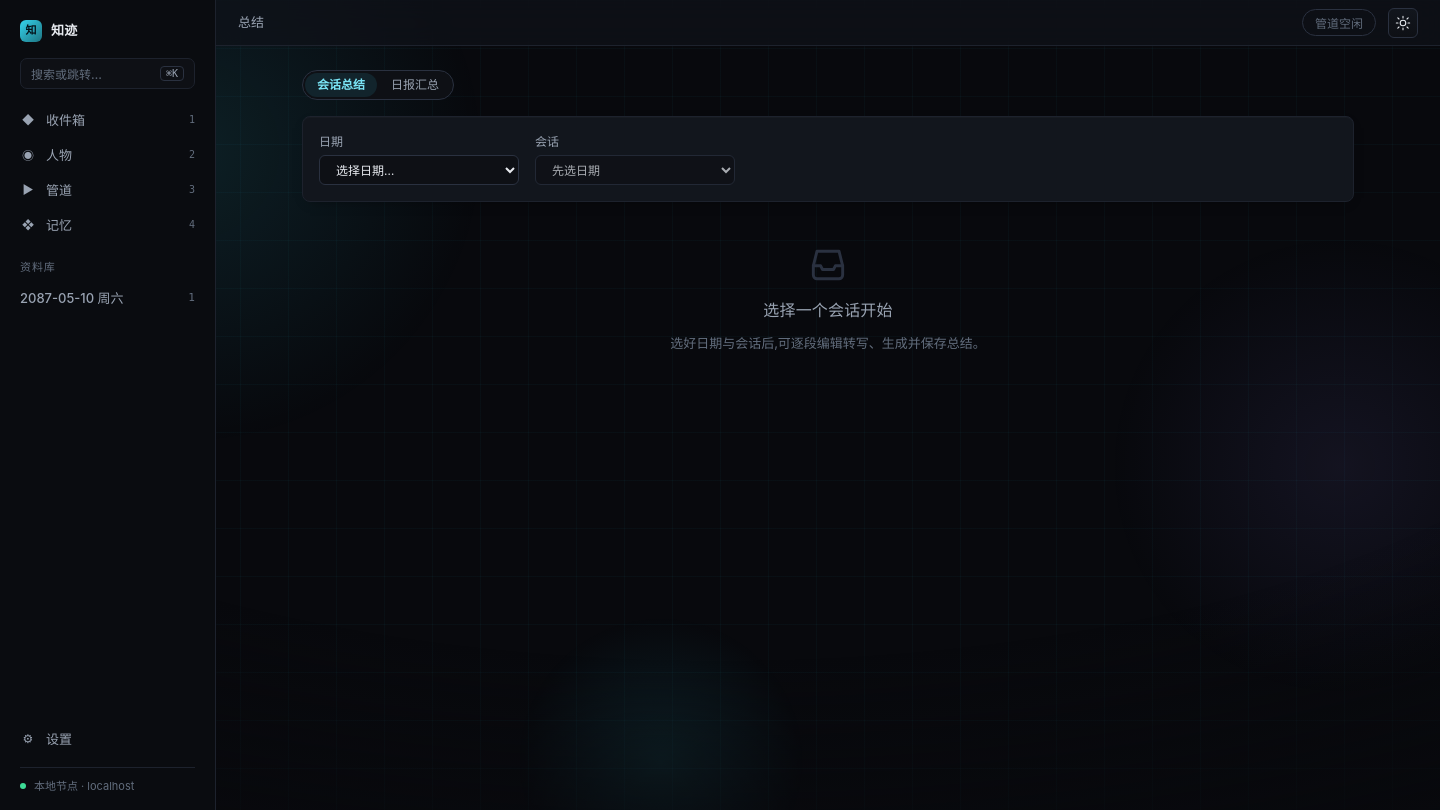
it: App container › 观点 tab defaults to the per-session workspace and can toggle to the 日报汇总 rollup
Expected: the tab "◆ 收件箱 1" is shown, x1=10 y1=103 x2=205 y2=136
Expected: the dropdown named "总结日期" is shown, x1=319 y1=155 x2=519 y2=185
Step 1. Click the tab "日报汇总" → [415, 85], box x1=379 y1=73 x2=451 y2=97
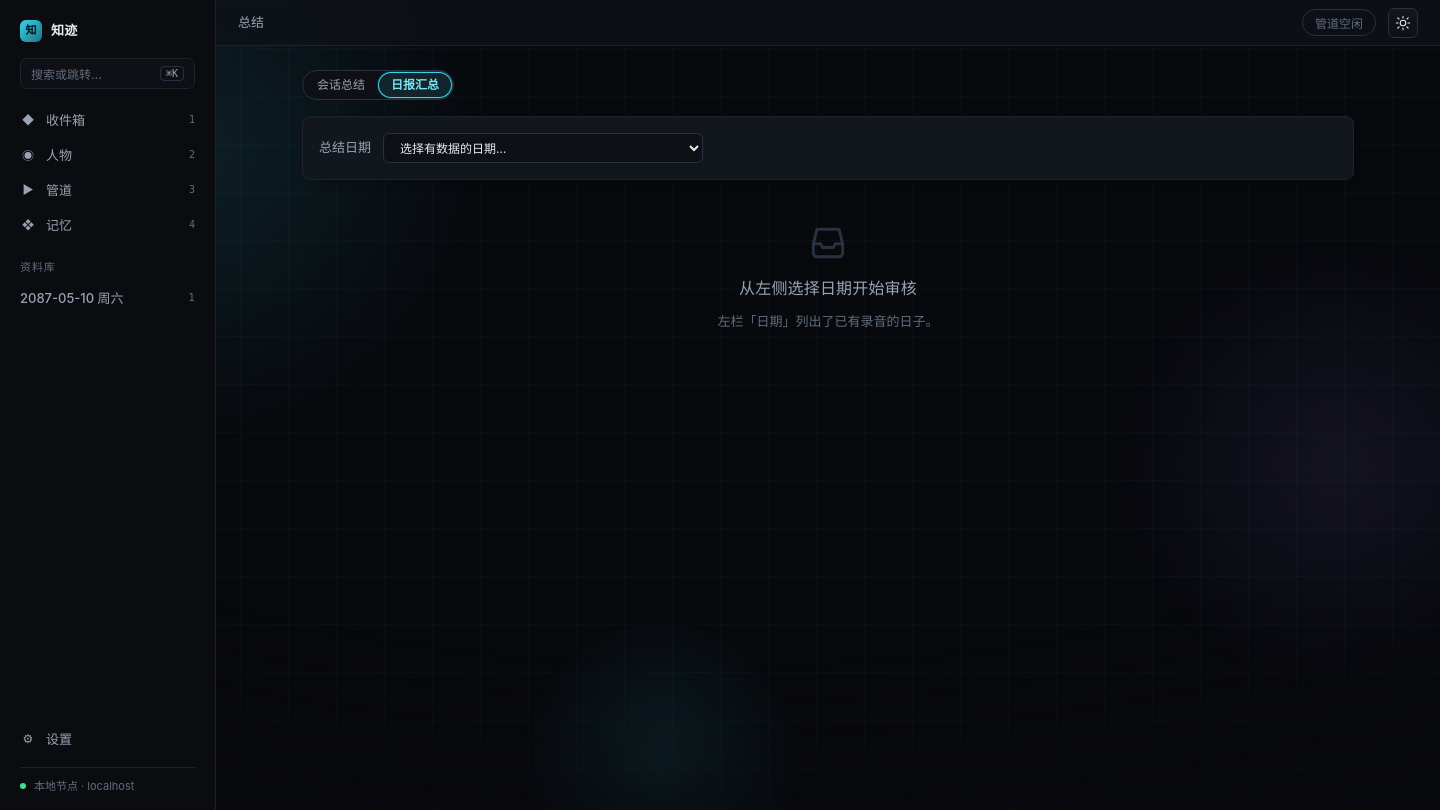
Expected: the dropdown labelled "总结日期" is shown, x1=383 y1=133 x2=703 y2=163
Expected: the dropdown labelled "总结会话" is gone
